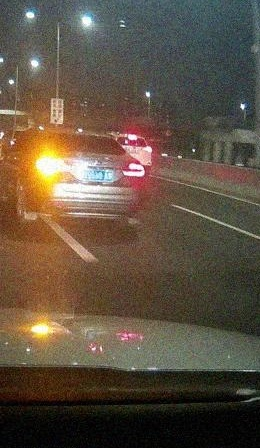L_light: (37, 155, 71, 175)
R_light: (123, 162, 145, 177)
T_light: (75, 134, 94, 138)
night-left: (35, 130, 146, 227)
